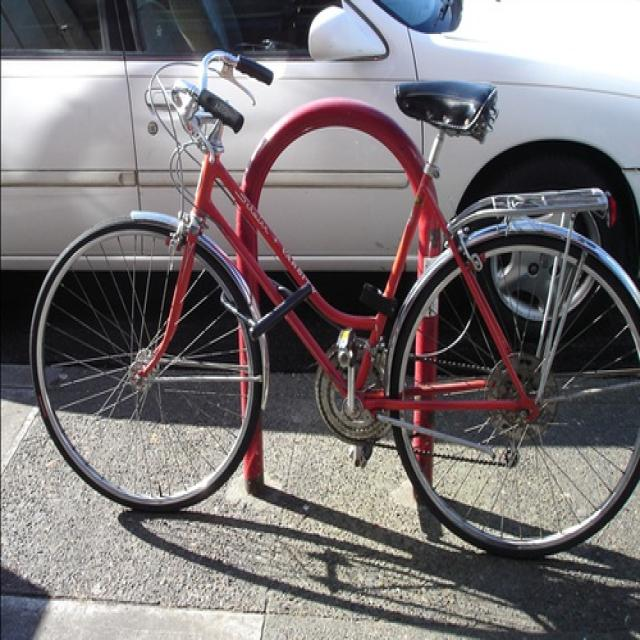bicycle: (25, 50, 640, 563)
car: (1, 1, 640, 368)
